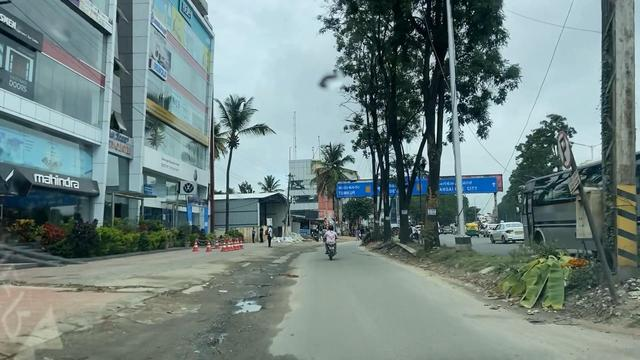RoadDamages: (201, 291, 267, 349), (242, 264, 298, 290)
